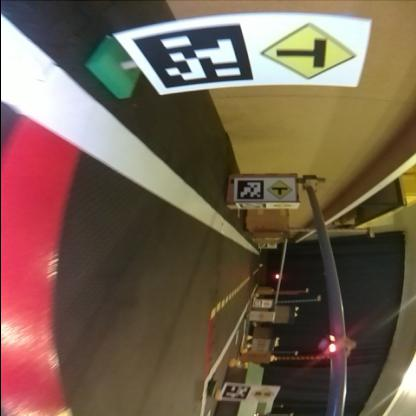Duckie: (270, 356, 278, 362)
Intersection sign: (257, 23, 357, 80), (266, 180, 293, 201)
QR code: (130, 23, 250, 92), (237, 180, 261, 200), (222, 384, 250, 401)
Signal sign: (251, 387, 273, 401)
Traffic light: (317, 338, 355, 354), (273, 274, 281, 278)
